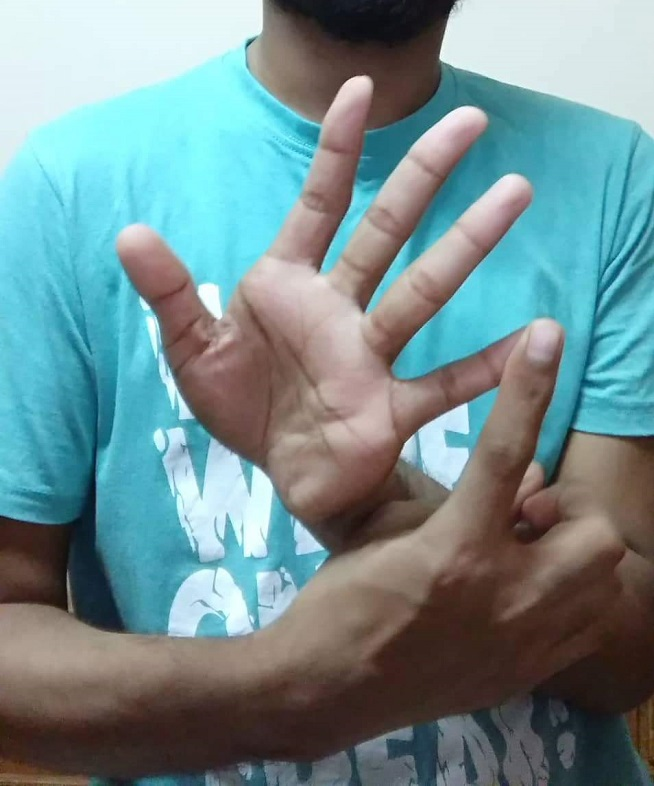i: (137, 86, 585, 630)
